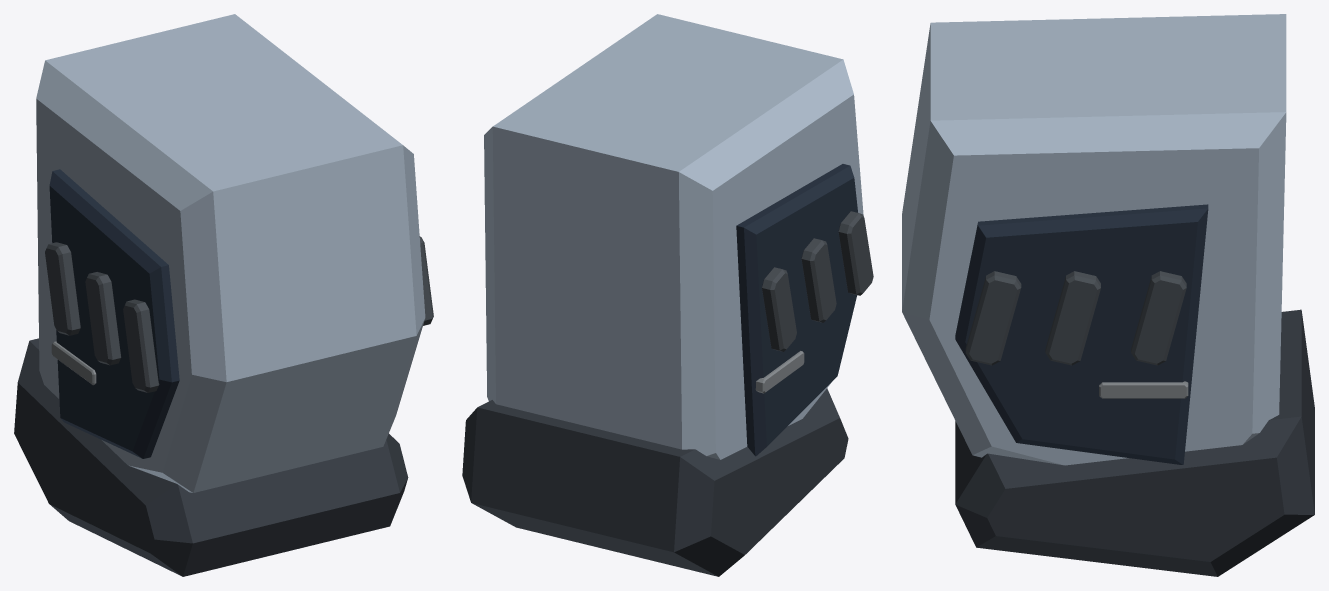
Rendered from aster_carbine_magazine.glb.
3 renders of one model, left to right at view 1: azimuth 30°, elevation 25°; view 2: azimuth 150°, elevation 25°; view 3: azimuth 270°, elevation 25°, orthographic. The views are drawn at different scales.
Parts seen in each view (by area): view 1: aster_carbine_magazine; view 2: aster_carbine_magazine; view 3: aster_carbine_magazine.
Boxes of the visible parts, x1,y1,x2,y2 form: aster_carbine_magazine: [14, 14, 433, 576]; aster_carbine_magazine: [462, 14, 873, 576]; aster_carbine_magazine: [902, 14, 1314, 576].
Size of the model in its own units: 0.185 by 0.267 by 0.217.
